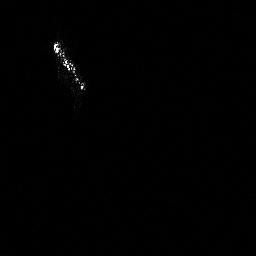ship: (52, 38, 87, 94)
